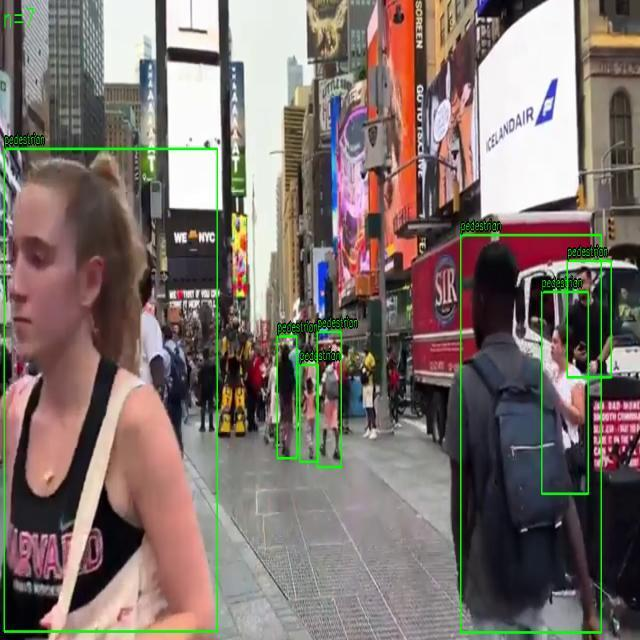person: (4, 148, 218, 632), (461, 235, 602, 633), (542, 292, 588, 494), (566, 260, 612, 378), (316, 332, 342, 468), (277, 336, 297, 459), (300, 364, 318, 462)
